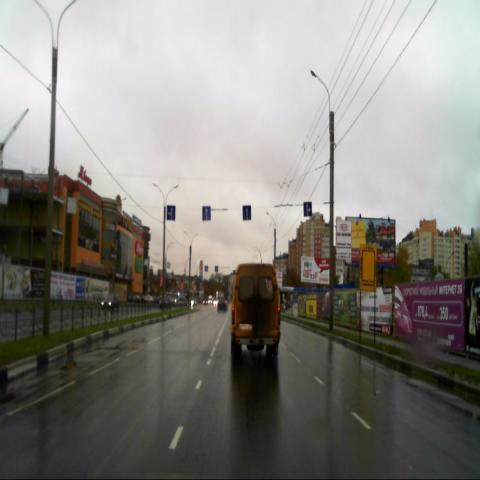5_15_2: (242, 205, 252, 220), (166, 204, 175, 220), (202, 205, 211, 221), (303, 201, 312, 216)
